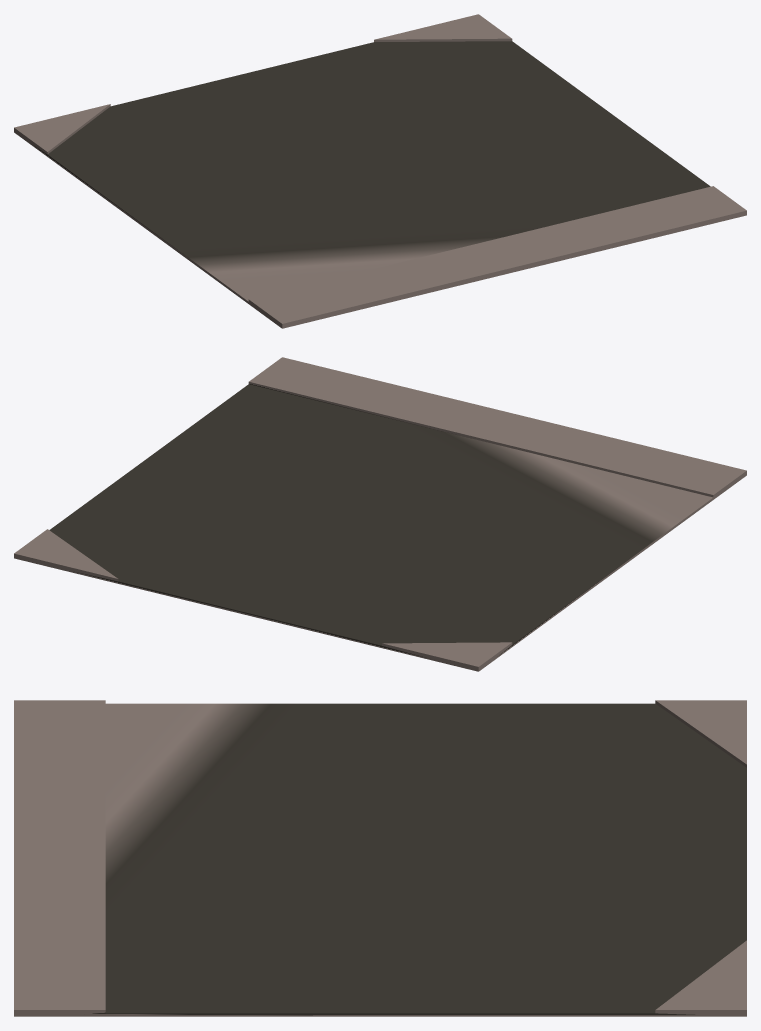
File: Env_2lane_Stop_col.fbx
The picture shows the model from 3 angles, top to bottom: view 1: azimuth 30°, elevation 25°; view 2: azimuth 150°, elevation 25°; view 3: azimuth 270°, elevation 25°; orthographic projection. The views are drawn at different scales.
Parts seen in each view (by area): view 1: Env_2lane_Stop_col; view 2: Env_2lane_Stop_col; view 3: Env_2lane_Stop_col.
Boxes of the visible parts, <box> form: Env_2lane_Stop_col: <box>14,14,746,328</box>; Env_2lane_Stop_col: <box>14,357,746,671</box>; Env_2lane_Stop_col: <box>14,700,746,1016</box>.
Size of the model in its own units: 2000 by 20 by 2000.
